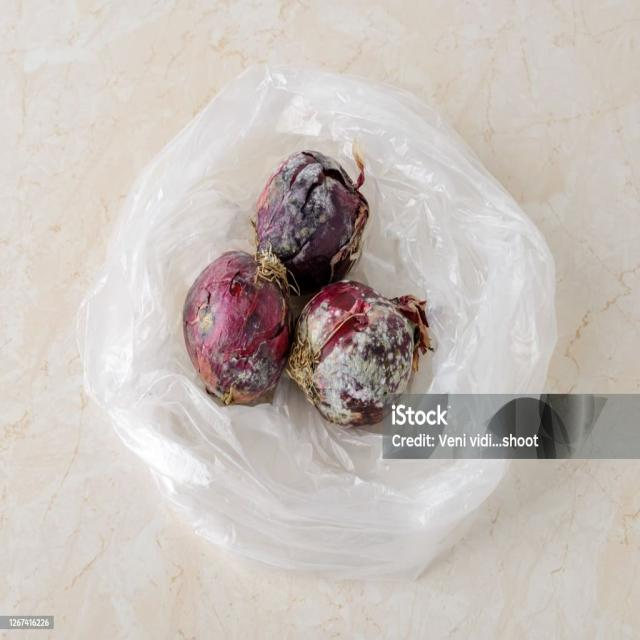rotten: (291, 282, 417, 424), (185, 253, 291, 400), (260, 114, 380, 240), (301, 281, 379, 342), (193, 251, 264, 315), (260, 151, 322, 215), (182, 299, 210, 384), (255, 169, 276, 222)
